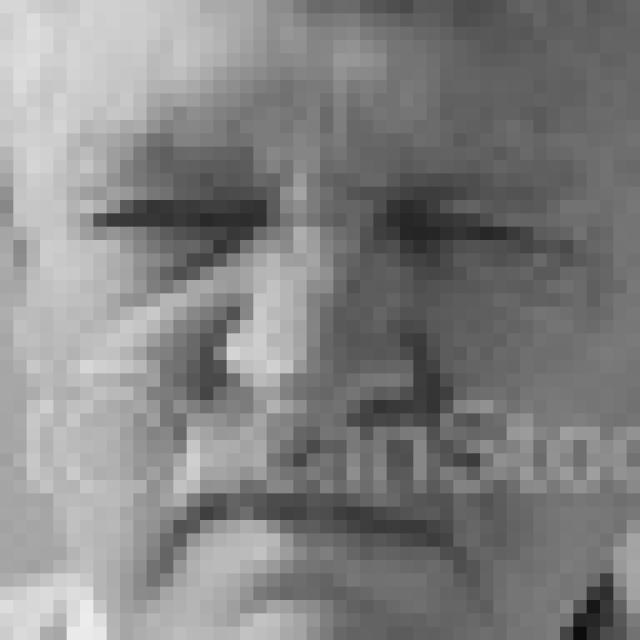disgust: (81, 149, 576, 618)
